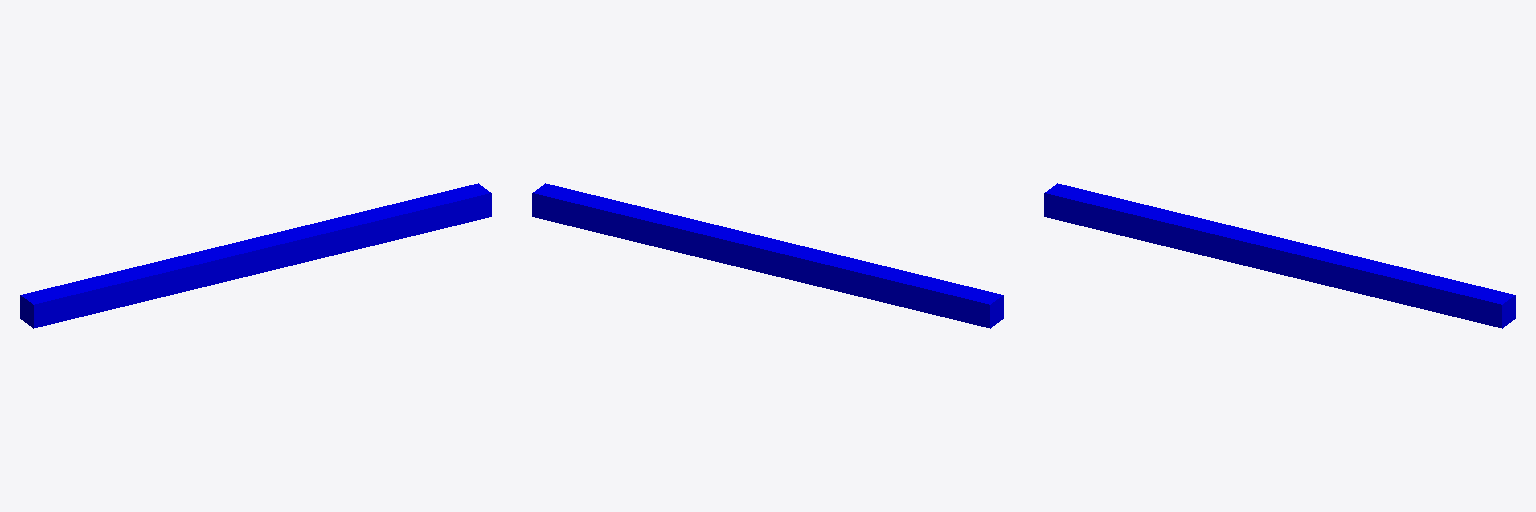
robot.urdf — simple_box:
<?xml version="1.0" ?>
<robot name="simple_box">
  <link name="box_link">
    <visual>
      <geometry>
        <box size="0.2 0.01 0.01"/> <!-- Size in meters: width, depth, height -->
      </geometry>
      <material name="blue">
        <color rgba="0 0 1 1"/> <!-- Blue color with full opacity -->
      </material>
    </visual>
    <collision>
      <geometry>
        <box size="0.2 0.01 0.01"/> <!-- Size for collision detection -->
      </geometry>
    </collision>
    <inertial>
      <mass value="1.0"/> <!-- Mass in kilograms -->
      <origin xyz="0 0 0"/>
      <inertia ixx="0.001" ixy="0.0" ixz="0.0" iyy="0.001" iyz="0.0" izz="0.001"/>
    </inertial>
  </link>
</robot>

--- What the picture shows (computed from the rendered views, not written in the file) ---
3 views of the same robot in one strip: view 1: azimuth 30°, elevation 25°; view 2: azimuth 150°, elevation 25°; view 3: azimuth 330°, elevation 25° (orthographic).
Robot: simple_box — 1 links, 0 joints (none); root link box_link; default pose: every joint at zero.
Links seen in each view (by area): view 1: box_link; view 2: box_link; view 3: box_link.
Link boxes in pixels (bbox=[...]): box_link: bbox=[20, 183, 491, 328]; box_link: bbox=[532, 183, 1003, 328]; box_link: bbox=[1044, 183, 1515, 328].
Bounding box of the posed robot: 0.2 × 0.01 × 0.01 m (x, y, z).
Geometry: primitives only (box / cylinder / sphere), no mesh files.
